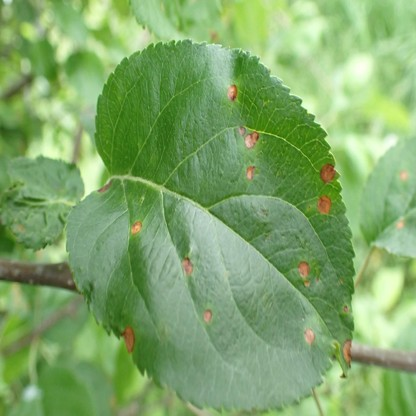frogeye: (320, 163, 336, 183), (343, 338, 353, 367), (245, 130, 259, 149), (124, 328, 135, 352), (318, 196, 331, 214), (299, 261, 310, 280), (182, 257, 194, 273), (227, 85, 237, 102), (98, 181, 112, 193), (304, 329, 315, 342), (131, 221, 142, 233), (203, 310, 212, 324), (247, 166, 255, 179), (239, 127, 248, 137), (401, 170, 407, 179), (397, 220, 403, 228), (343, 304, 348, 313), (305, 281, 310, 286)
